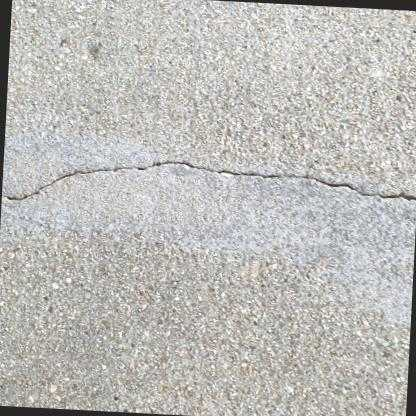crack: (0, 161, 416, 203)
